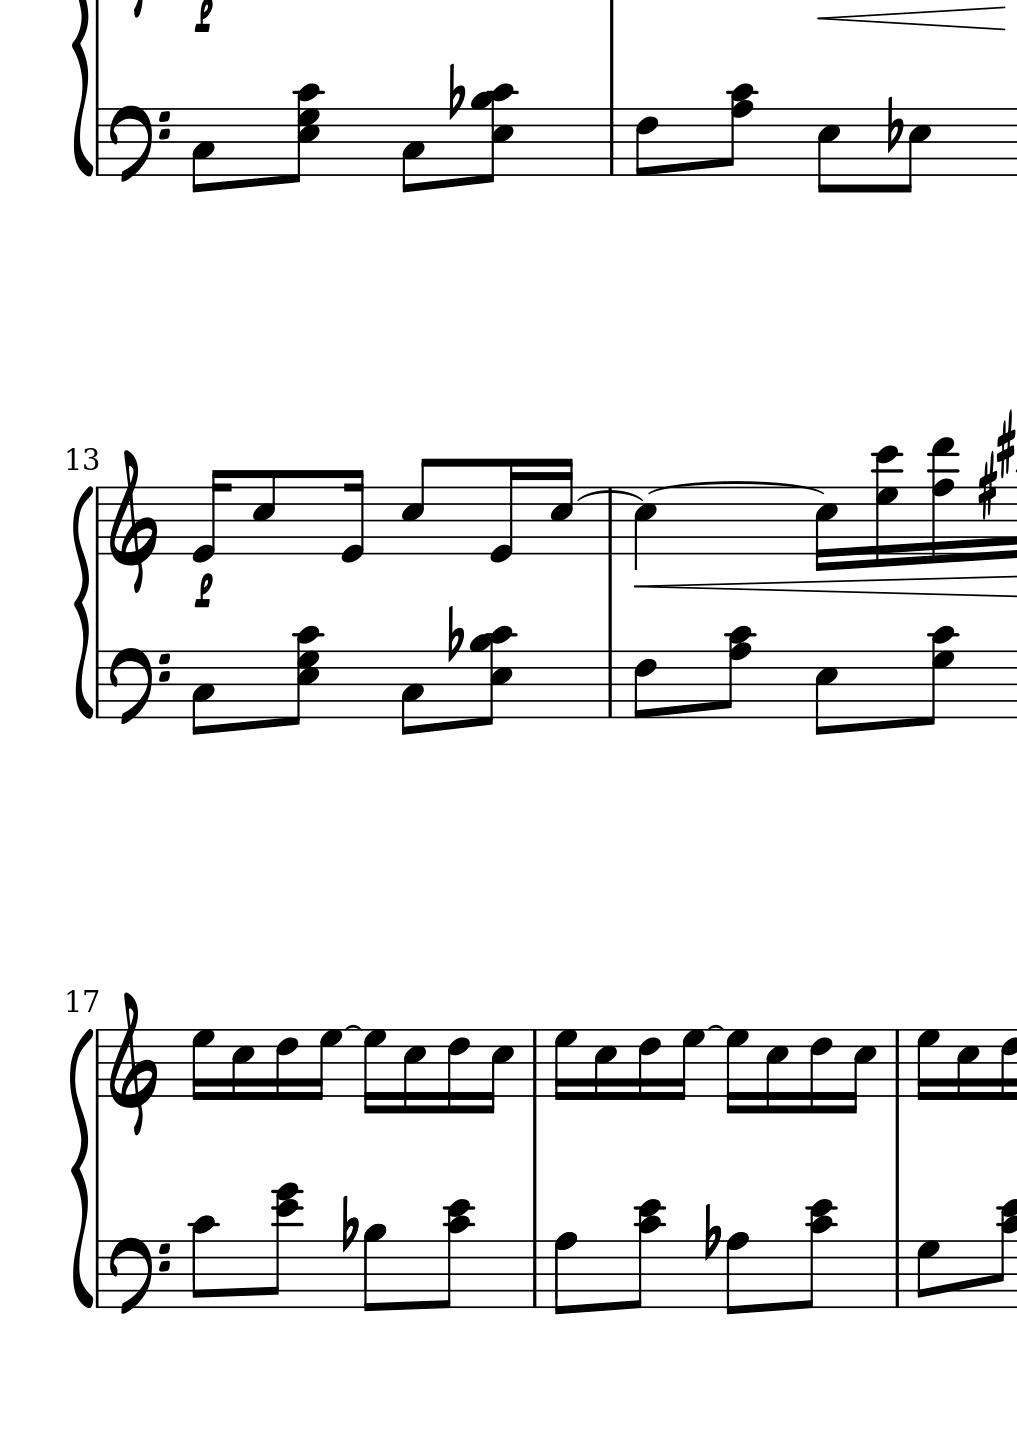1: (64, 987, 79, 1016), (65, 446, 79, 473)
16_0: (189, 466, 230, 564), (486, 457, 522, 566), (338, 466, 367, 566)
16_10_15: (927, 435, 956, 564)
16_5: (483, 1027, 514, 1115), (548, 455, 575, 557), (846, 1027, 876, 1115), (763, 1027, 789, 1115), (401, 1028, 427, 1115), (812, 484, 838, 574), (229, 1027, 255, 1102), (591, 1028, 617, 1104), (954, 1027, 980, 1102)
16_6: (807, 1027, 833, 1115), (445, 1027, 470, 1115), (273, 1027, 298, 1102), (636, 1027, 661, 1102), (998, 1029, 1016, 1102)
16_7: (309, 1027, 342, 1104), (672, 1027, 706, 1102), (361, 1027, 386, 1116), (724, 1028, 750, 1115), (189, 1027, 216, 1105), (553, 1027, 578, 1102), (915, 1028, 940, 1104)
16_9_14: (870, 444, 905, 569)
3: (83, 444, 99, 473)
4_5: (632, 485, 658, 572)
7: (83, 987, 100, 1016)
8_10: (189, 1214, 217, 1311)
8_10_12: (437, 1198, 475, 1310), (627, 1199, 666, 1311), (801, 1198, 840, 1310)
8_12_14: (264, 1182, 305, 1309)
8_3: (189, 106, 216, 195), (189, 649, 216, 737), (400, 106, 425, 195), (398, 648, 424, 737)
8_5: (400, 455, 433, 556), (899, 107, 931, 197), (250, 466, 277, 555), (812, 648, 839, 738), (814, 106, 840, 196)
8_6: (632, 649, 658, 720), (634, 107, 659, 178)
8_7: (915, 1239, 941, 1310)
8_7_10: (920, 624, 960, 726)
8_8: (723, 1230, 750, 1318), (553, 1230, 577, 1318)
8_8_10: (720, 83, 757, 178), (722, 625, 757, 720)
8_9: (361, 1222, 386, 1313)
8_th: (466, 625, 520, 729), (470, 81, 518, 185), (285, 80, 326, 187), (283, 624, 324, 727)
Brace: (69, 1023, 96, 1311), (72, 481, 94, 723)
Fclef: (107, 1234, 171, 1319), (107, 645, 169, 728), (108, 103, 169, 186)
Flat: (445, 603, 464, 665), (884, 94, 903, 156), (339, 1193, 358, 1255), (446, 61, 464, 121), (702, 1201, 719, 1262)
Gclef: (106, 448, 160, 596), (107, 990, 158, 1137)
Single_barline: (602, 108, 621, 176), (526, 1240, 545, 1308), (602, 487, 621, 555), (888, 1240, 907, 1307), (601, 650, 619, 718), (526, 1030, 544, 1097), (889, 1030, 906, 1097), (91, 109, 105, 175), (91, 1241, 105, 1307), (92, 489, 105, 555), (92, 1031, 105, 1097), (92, 652, 105, 717)
p: (192, 572, 215, 610)
